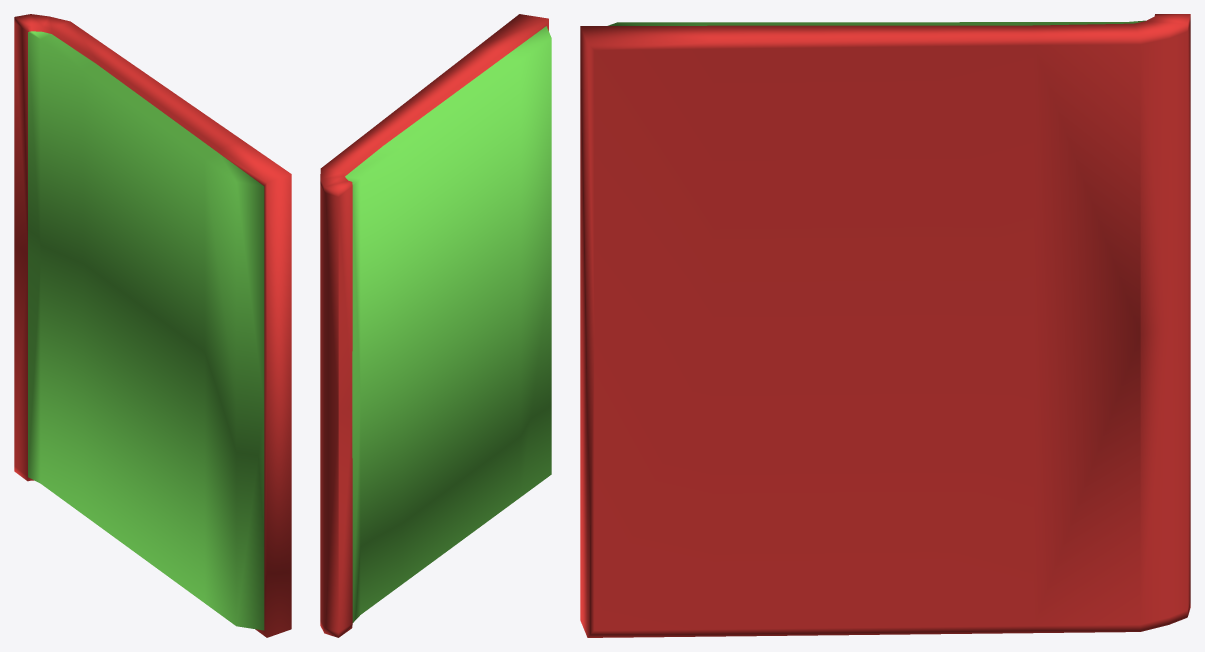
Rendered from BookRight.fbx.
3 renders of one model, left to right at view 1: azimuth 30°, elevation 25°; view 2: azimuth 150°, elevation 25°; view 3: azimuth 270°, elevation 25°, orthographic. The views are drawn at different scales.
Parts seen in each view (by area): view 1: BookRight; view 2: BookRight; view 3: BookRight.
Boxes of the visible parts, x1,y1,x2,y2 form: BookRight: (14, 14, 291, 637); BookRight: (320, 14, 551, 637); BookRight: (580, 14, 1190, 637).
Bounding box in the file's own units: 2.8 × 25.89 × 24.08.
